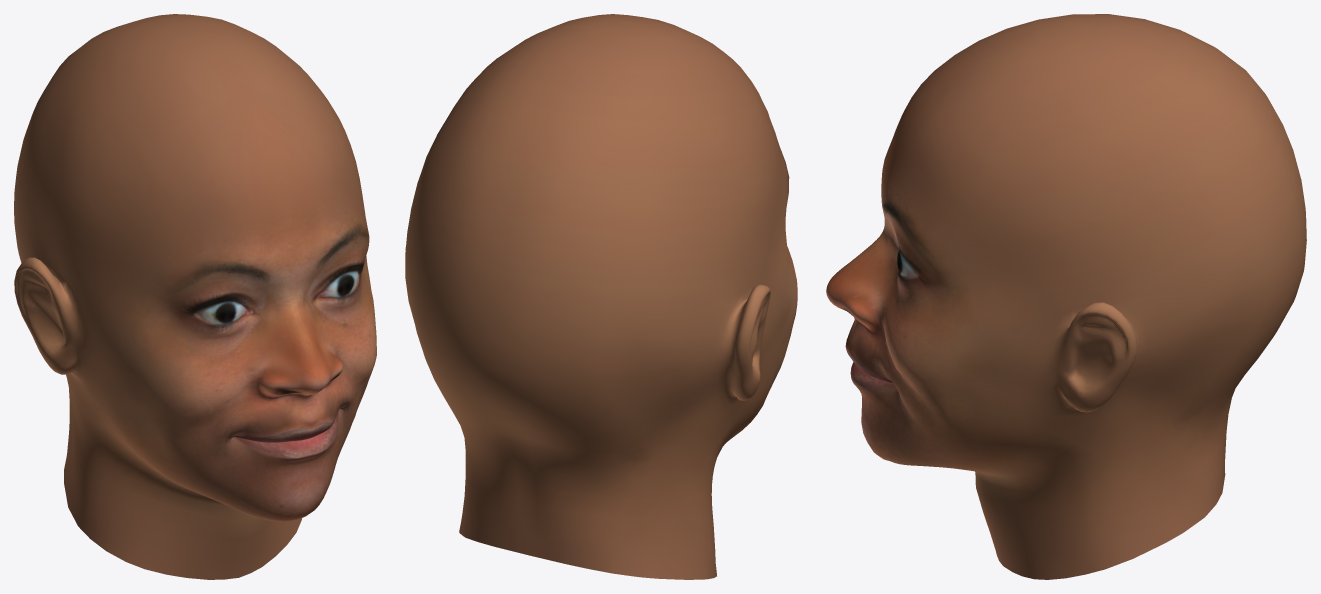
Rendered from v332_obj_ExpressionFrown.obj.
3 renders of one model, left to right at view 1: azimuth 30°, elevation 25°; view 2: azimuth 150°, elevation 25°; view 3: azimuth 270°, elevation 25°, orthographic. The views are drawn at different scales.
Visible parts, largest first — view 1: HeadHires; view 2: HeadHires; view 3: HeadHires.
Boxes of the visible parts, <box> form: HeadHires: <box>14,14,376,579</box>; HeadHires: <box>405,14,797,579</box>; HeadHires: <box>826,14,1306,579</box>.
Bounding box in the file's own units: 187 × 282 × 233.
